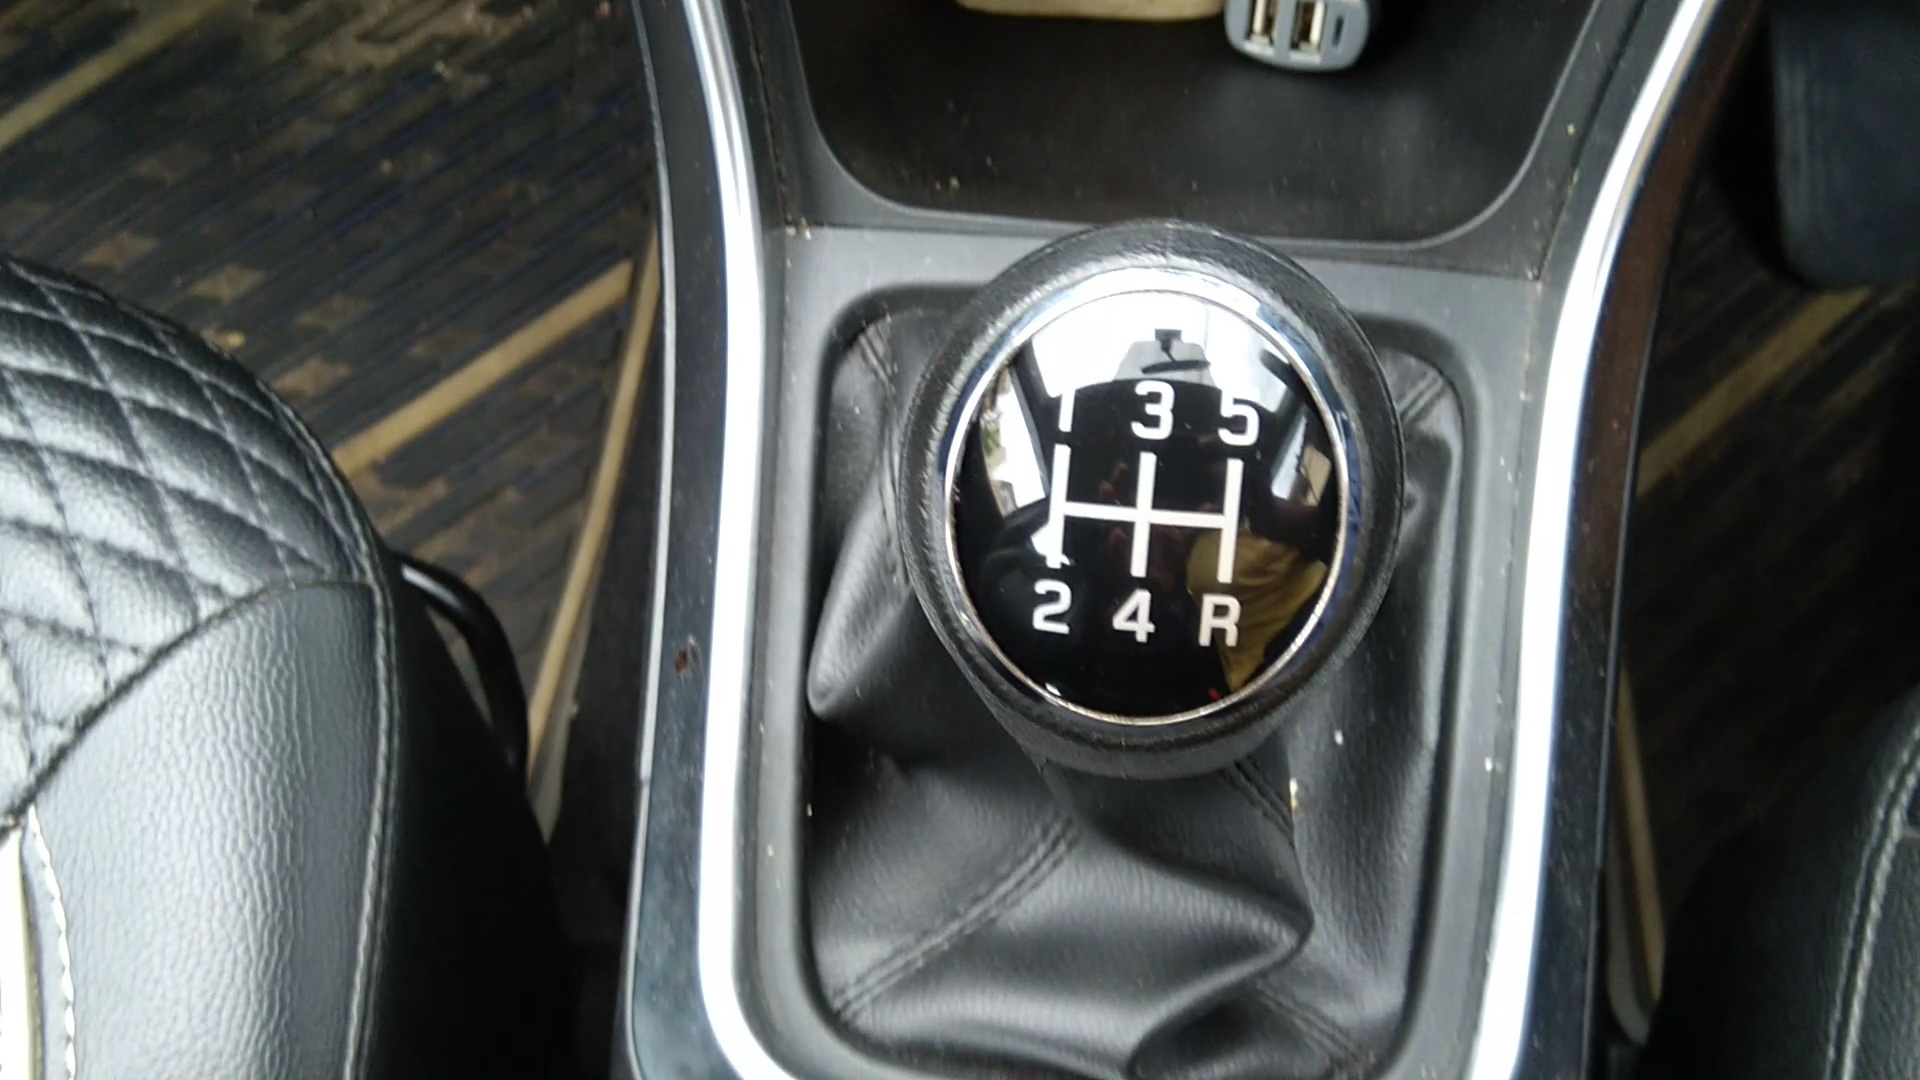manual_gear: (869, 212, 1424, 822)
